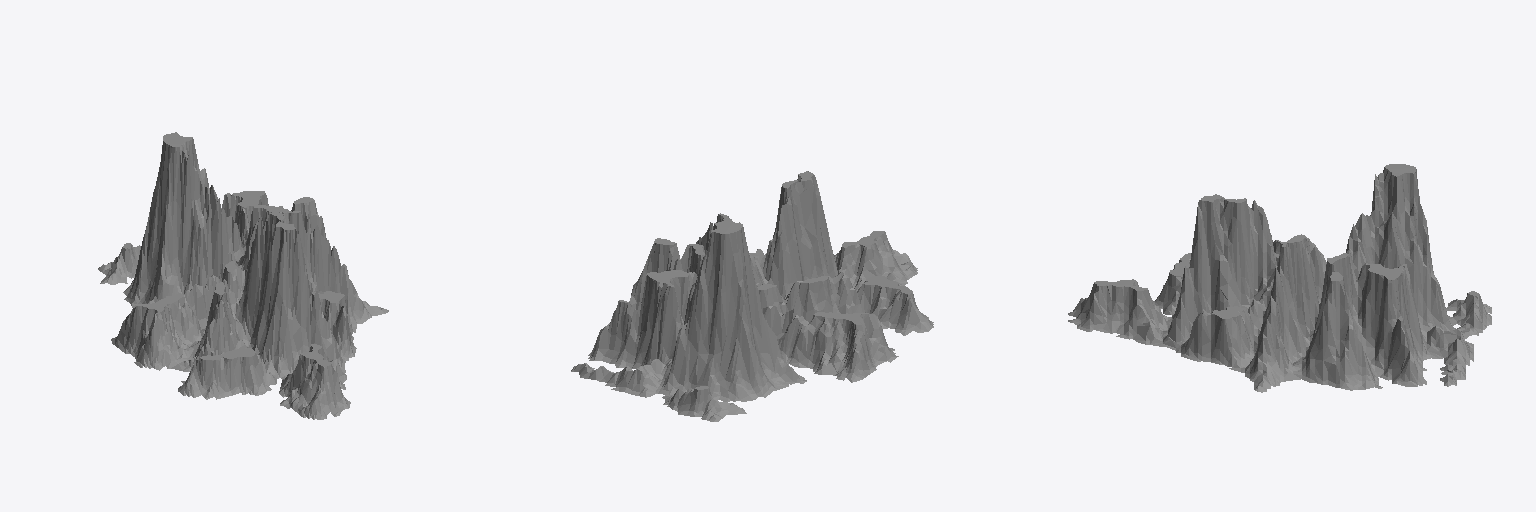
The model's file is Mountain04.obj.
3 views of the same model, side by side, from view 1: azimuth 30°, elevation 25°; view 2: azimuth 150°, elevation 25°; view 3: azimuth 270°, elevation 25° (orthographic).
Parts seen in each view (by area): view 1: mt4; view 2: mt4; view 3: mt4.
Boxes of the visible parts, x1,y1,x2,y2 form: mt4: [98, 132, 388, 419]; mt4: [571, 171, 933, 421]; mt4: [1068, 164, 1491, 392].
Size of the model in its own units: 293 by 176 by 439.